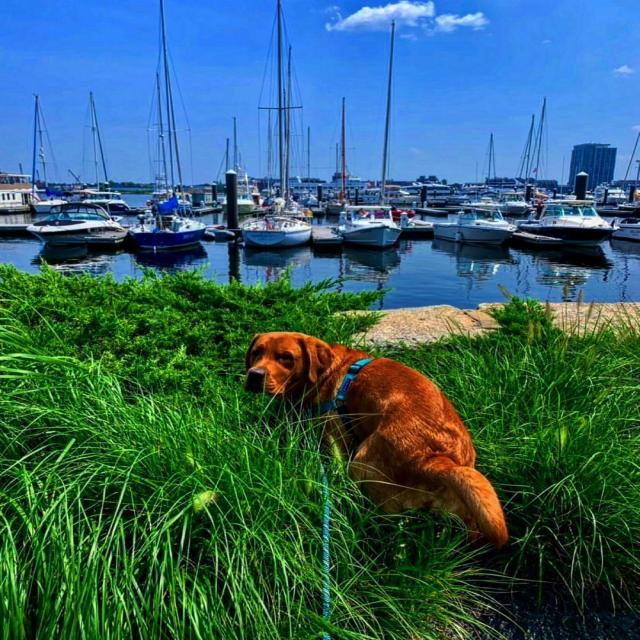squatting: (241, 322, 520, 549)
